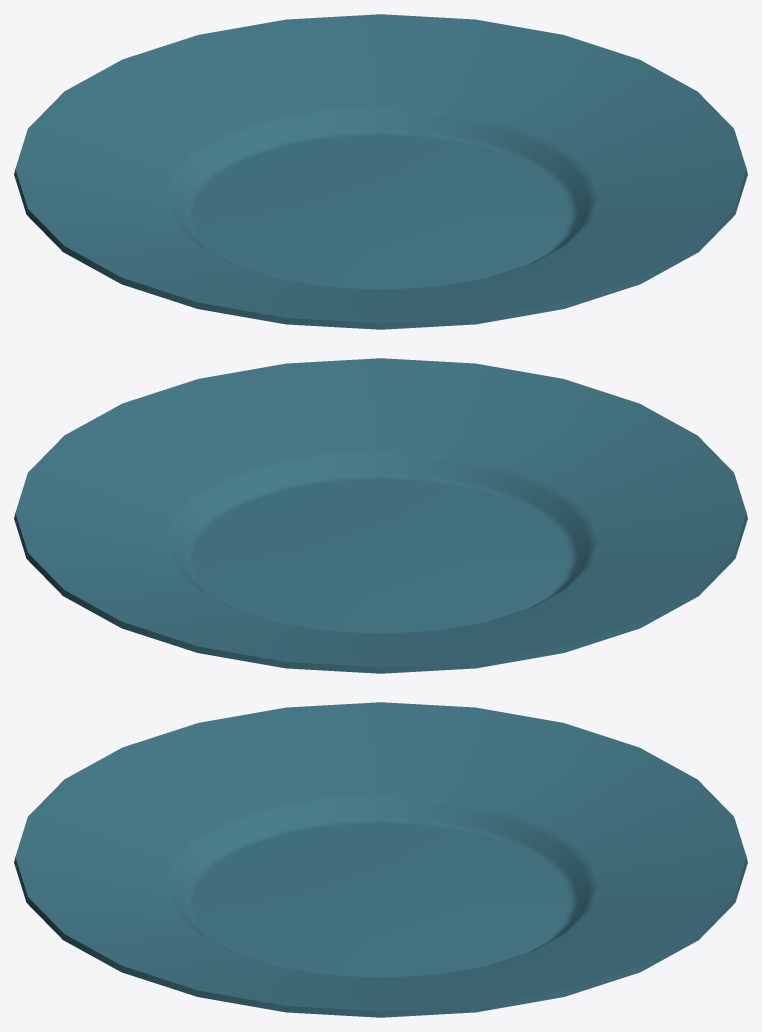
Rendered from SM_SmallTrashkit_Plat1_001.fbx.
The picture shows the model from 3 angles, top to bottom: view 1: azimuth 30°, elevation 25°; view 2: azimuth 150°, elevation 25°; view 3: azimuth 270°, elevation 25°; orthographic projection.
Parts seen in each view (by area): view 1: SM_SmallTrashkit_Plat1_001; view 2: SM_SmallTrashkit_Plat1_001; view 3: SM_SmallTrashkit_Plat1_001.
Part boxes in pixels (<box>): SM_SmallTrashkit_Plat1_001: <box>14,14,747,329</box>; SM_SmallTrashkit_Plat1_001: <box>14,358,747,673</box>; SM_SmallTrashkit_Plat1_001: <box>14,702,747,1017</box>.
Size of the model in its own units: 43.21 by 3.41 by 43.21.
